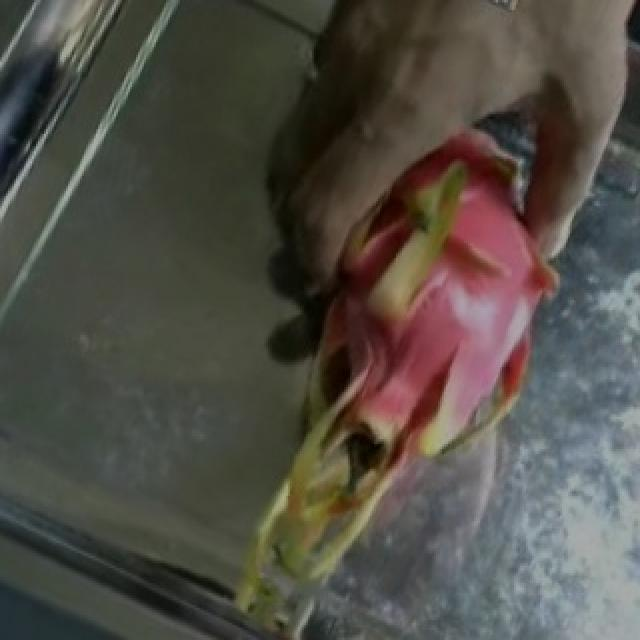fruit: (202, 208, 614, 635)
